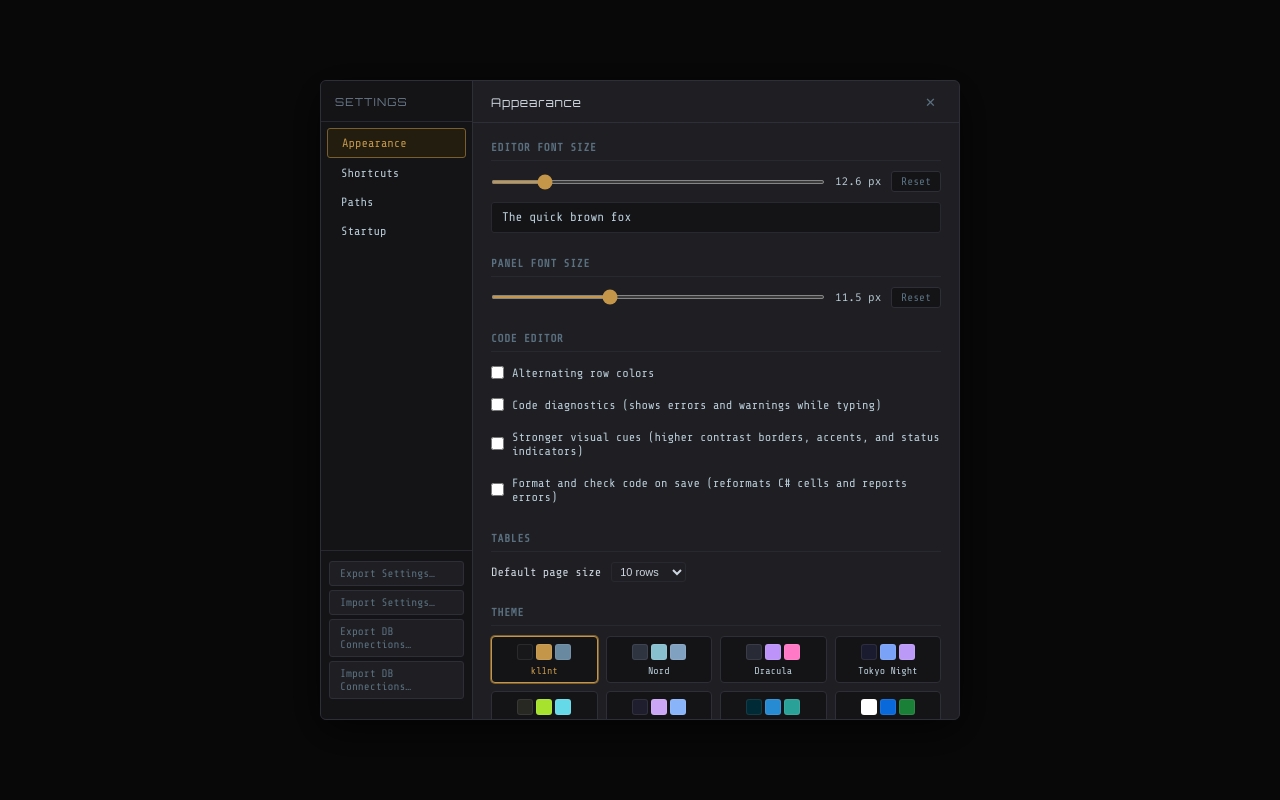
Startup section — with pinned notebooks › renders each pinned notebook by filename
Click the button with class "settings-section-btn" showing "Startup": x=396, y=231 [327,217,466,245]
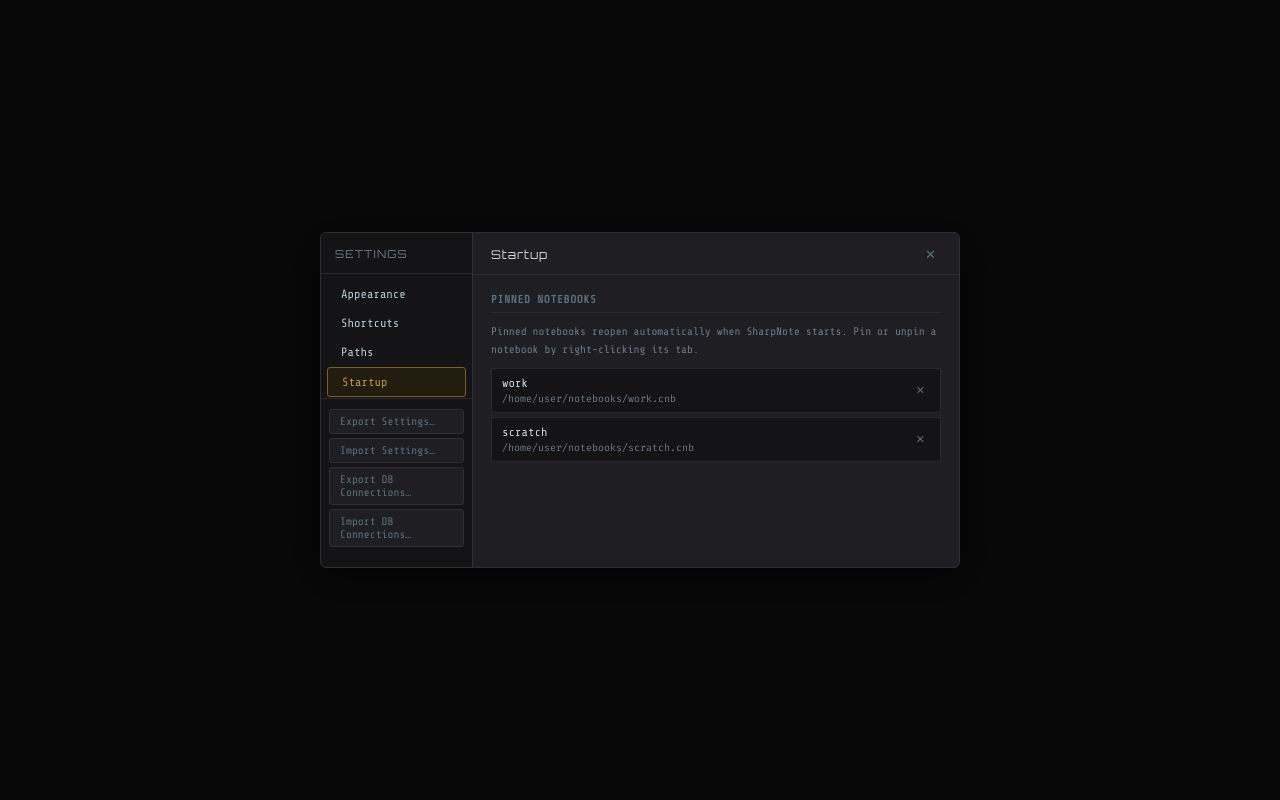
Check: the text "work" is shown, box [502,376,528,390]
Check: the text "scratch" is shown, box [502,425,547,439]
